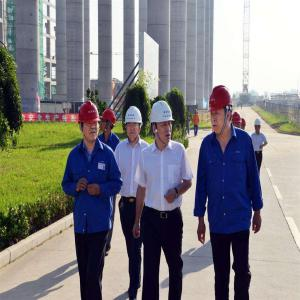red: (209, 84, 233, 136), (78, 100, 101, 145), (100, 107, 117, 136), (232, 112, 243, 131)
white: (150, 99, 175, 149), (123, 105, 145, 145), (253, 117, 263, 135)
